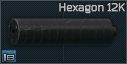Hexagon 12K 12ga sound suppressor: (0, 0, 127, 64)
